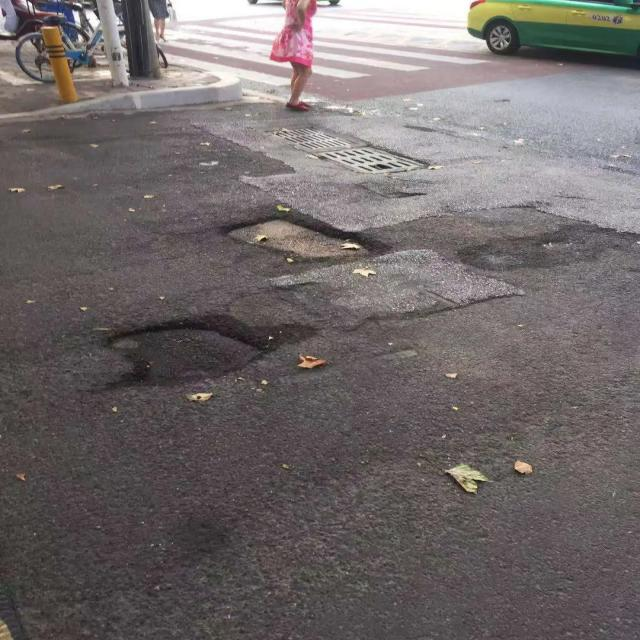Pothole: (101, 318, 280, 392), (222, 212, 384, 264), (480, 223, 601, 276)
